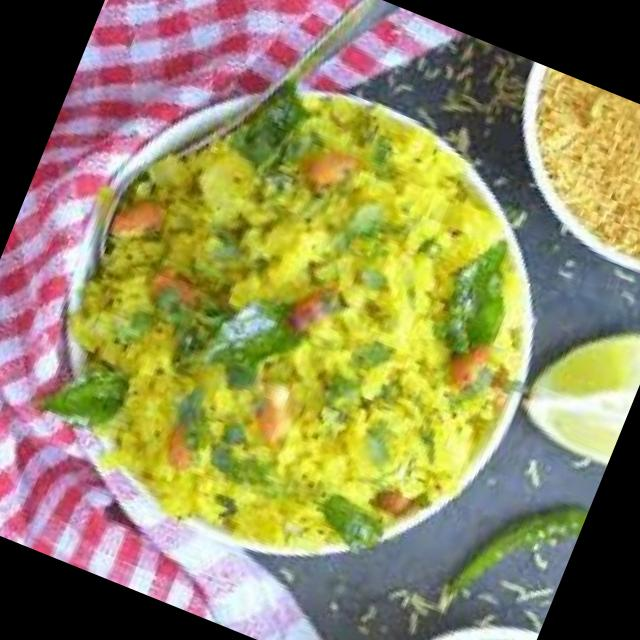poha: (16, 31, 591, 616)
